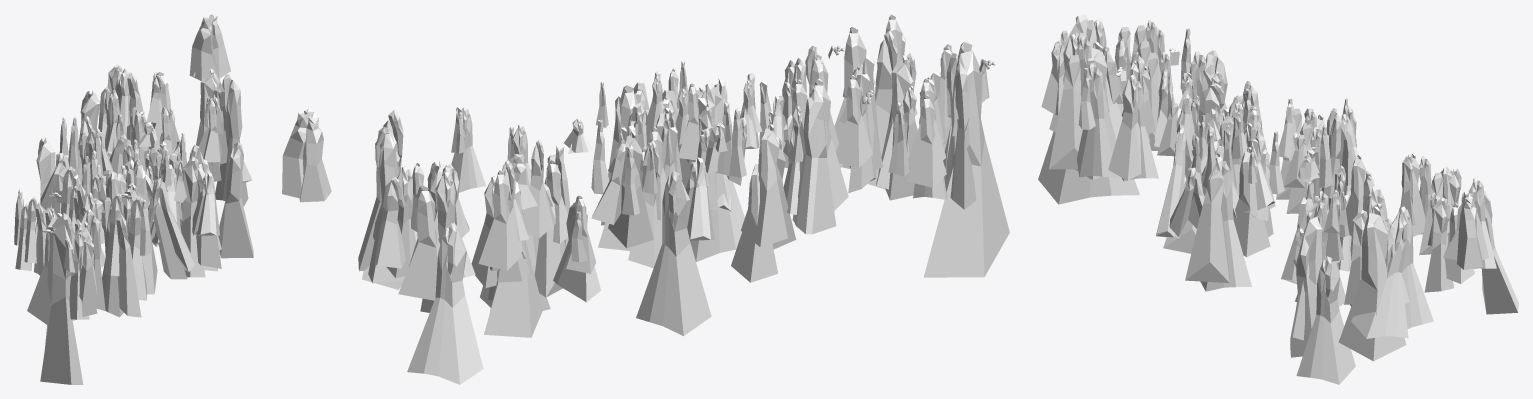
The model's file is MOUNTAINS.fbx.
3 renders of one model, left to right at view 1: azimuth 30°, elevation 25°; view 2: azimuth 150°, elevation 25°; view 3: azimuth 270°, elevation 25°, orthographic. The views are drawn at different scales.
Visible parts, largest first — view 1: mountainTest1 (53) (×2), mountainTest1 (47) (×3), mountainTest1 (38) (×4), mountainTest1 (48) (×3), mountainTest1 (45) (×4), mountainTest1 (37) (×4), mountainTest1 (39) (×3), mountainTest1 (36) (×3), mountainTest1 (42) (×4), mountainTest1 (43) (×4), mountainTest1 (40) (×3), mountainTest1 (41) (×2) (+19 smaller); view 2: mountainTest1 (42) (×4), mountainTest1 (38) (×4), mountainTest1 (45) (×5), mountainTest1 (53), mountainTest1 (39) (×3), mountainTest1 (41) (×2), mountainTest1 (33) (×2), mountainTest1 (43) (×3), mountainTest1 (48) (×4), mountainTest1 (46) (×3), mountainTest1 (37) (×2), mountainTest1 (44) (×2) (+15 smaller); view 3: mountainTest1 (48) (×4), mountainTest1 (38) (×4), mountainTest1 (45) (×6), mountainTest1 (39) (×5), mountainTest1 (47) (×2), mountainTest1 (37) (×4), mountainTest1 (53) (×2), mountainTest1 (43) (×3), mountainTest1 (49) (×3), mountainTest1 (36), mountainTest1 (31) (×3), mountainTest1 (46) (×2) (+15 smaller).
Boxes of the visible parts, x1,y1,x2,y2 form: mountainTest1 (53) (×2): (40, 132, 113, 384); mountainTest1 (47) (×3): (14, 142, 253, 258); mountainTest1 (38) (×4): (73, 90, 205, 300); mountainTest1 (48) (×3): (69, 16, 248, 319); mountainTest1 (45) (×4): (130, 17, 221, 271); mountainTest1 (37) (×4): (104, 73, 252, 294); mountainTest1 (39) (×3): (98, 87, 221, 317); mountainTest1 (36) (×3): (68, 117, 141, 317); mountainTest1 (42) (×4): (35, 68, 130, 311); mountainTest1 (43) (×4): (34, 106, 181, 275); mountainTest1 (40) (×3): (117, 68, 221, 255); mountainTest1 (41) (×2): (46, 163, 187, 279); mountainTest1 (42) (×4): (434, 53, 916, 336); mountainTest1 (38) (×4): (407, 26, 866, 384); mountainTest1 (45) (×5): (299, 55, 914, 288); mountainTest1 (53): (923, 40, 1009, 277); mountainTest1 (39) (×3): (478, 30, 897, 302); mountainTest1 (41) (×2): (534, 87, 836, 297); mountainTest1 (33) (×2): (484, 75, 872, 337); mountainTest1 (43) (×3): (398, 140, 796, 300); mountainTest1 (48) (×4): (282, 54, 842, 289); mountainTest1 (46) (×3): (512, 78, 848, 282); mountainTest1 (37) (×2): (358, 81, 744, 271); mountainTest1 (44) (×2): (386, 94, 946, 278); mountainTest1 (48) (×4): (1122, 81, 1482, 361); mountainTest1 (38) (×4): (1077, 63, 1518, 314); mountainTest1 (45) (×6): (1102, 46, 1488, 340); mountainTest1 (39) (×5): (1075, 42, 1431, 282); mountainTest1 (47) (×2): (1169, 167, 1355, 384); mountainTest1 (37) (×4): (1076, 36, 1415, 338); mountainTest1 (53) (×2): (1038, 14, 1296, 204); mountainTest1 (43) (×3): (1233, 139, 1496, 268); mountainTest1 (49) (×3): (1049, 34, 1225, 180); mountainTest1 (36): (1049, 55, 1082, 169); mountainTest1 (31) (×3): (1148, 52, 1447, 255); mountainTest1 (46) (×2): (1190, 51, 1313, 357).
Size of the model in its own units: 127 by 66.31 by 131.
Materials: 8 (1 with a texture image).
